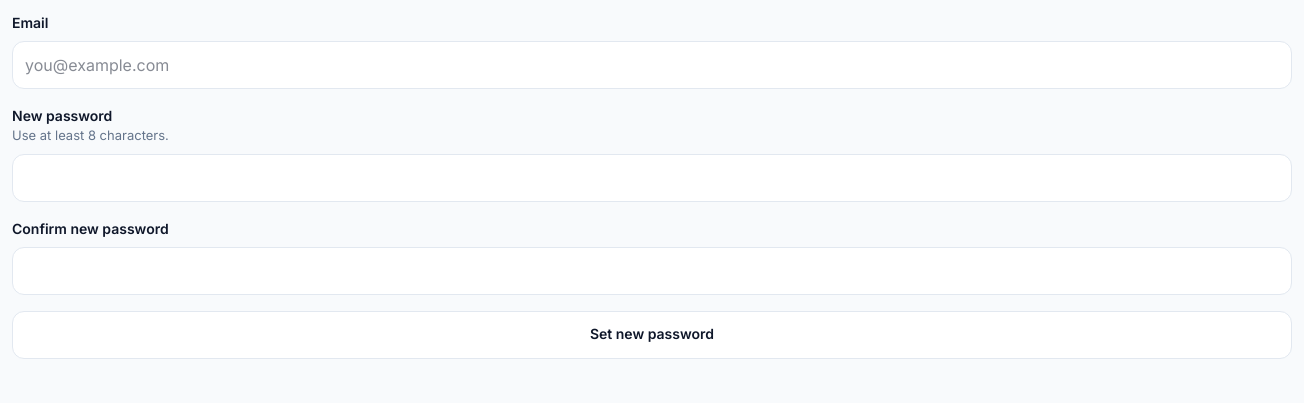
Test case: demo password reset › requires matching new passwords before approving the demo reset
Type "user@example.com" into the field labelled "Email" at (652,65), box left=12, top=41, right=1292, bottom=89
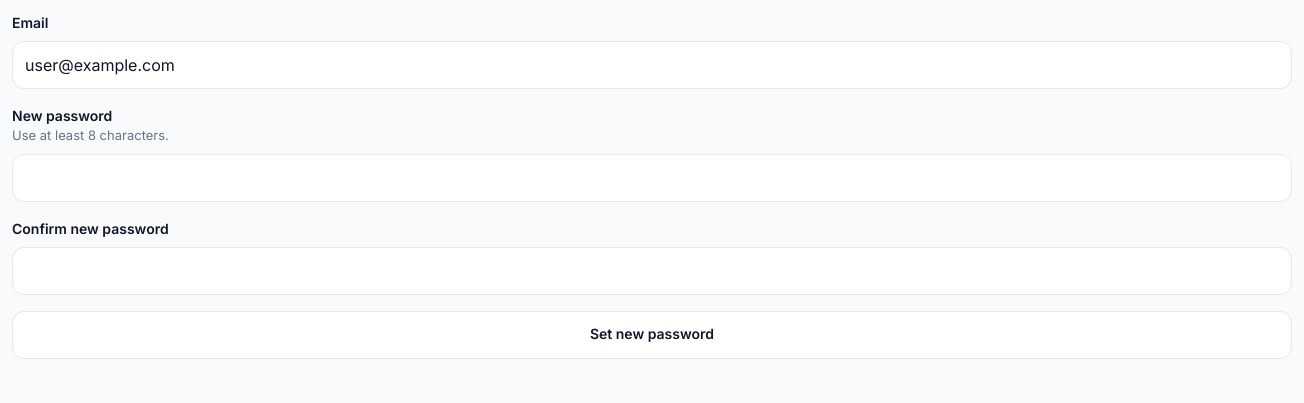
Type "strongpass" into the password field labelled "New password" at (652,178), box left=12, top=154, right=1292, bottom=202
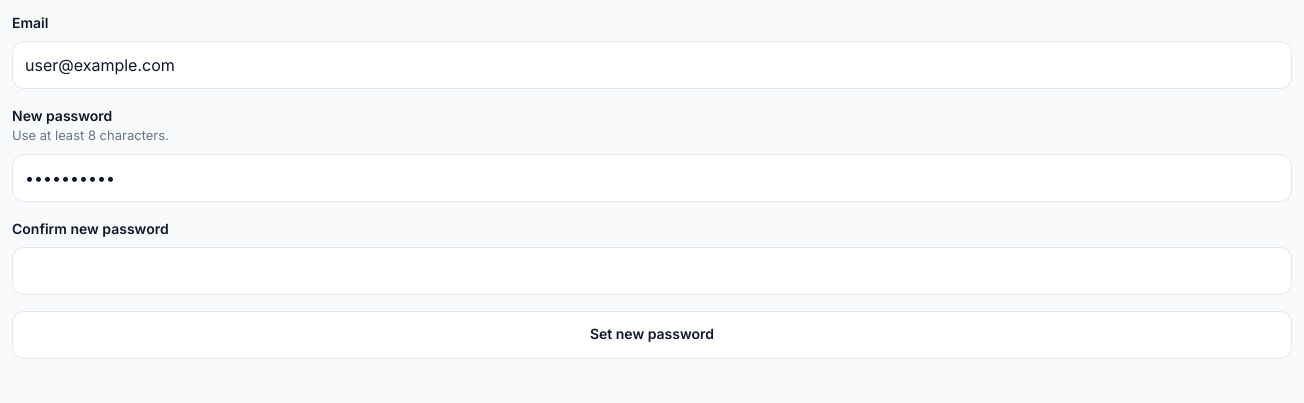
Type "different" into the password field labelled "Confirm new password" at (652,270), box left=12, top=246, right=1292, bottom=294
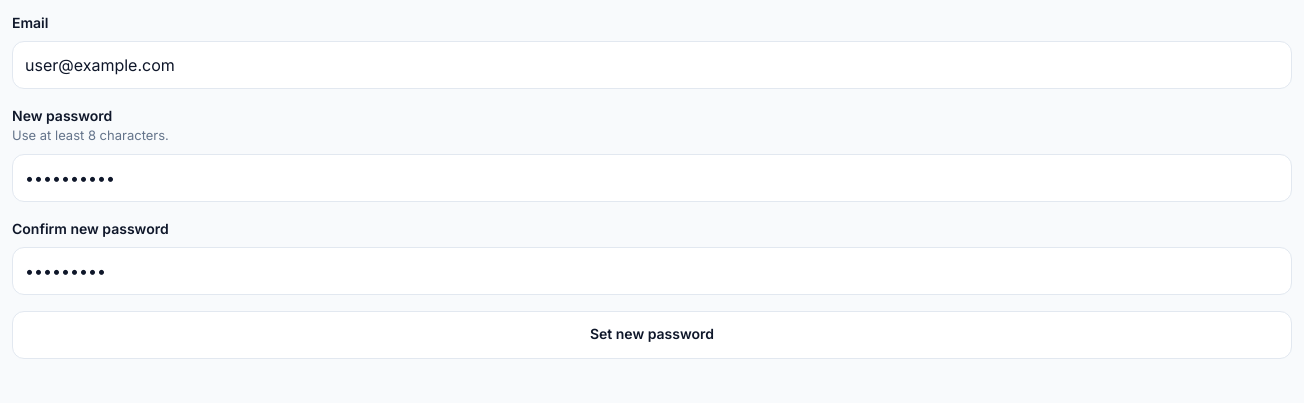
Click the button "Set new password" at (652,334), box left=12, top=310, right=1292, bottom=358
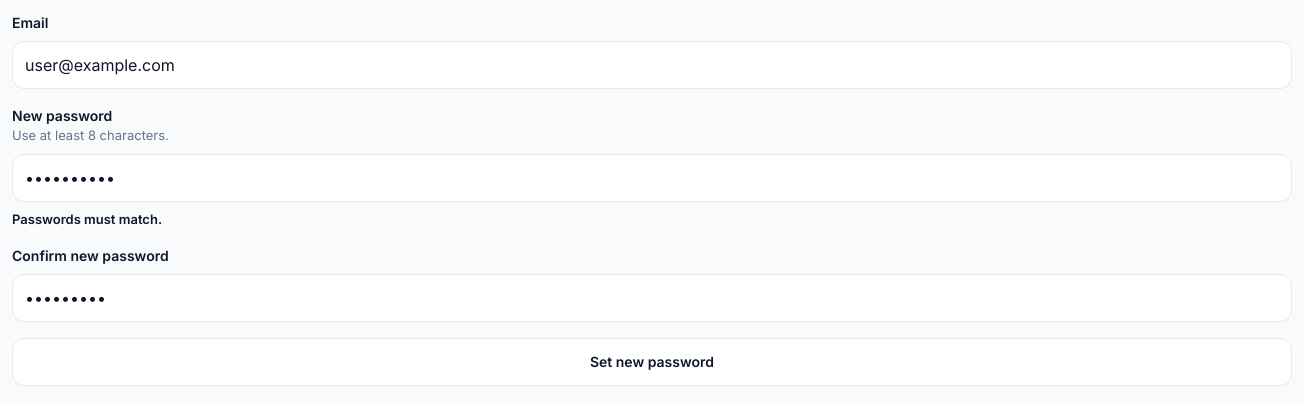
Check: the text "Passwords must match." is shown, box left=12, top=210, right=162, bottom=226
Type "strongpass" into the password field labelled "Confirm new password" at (652,298), box left=12, top=274, right=1292, bottom=322
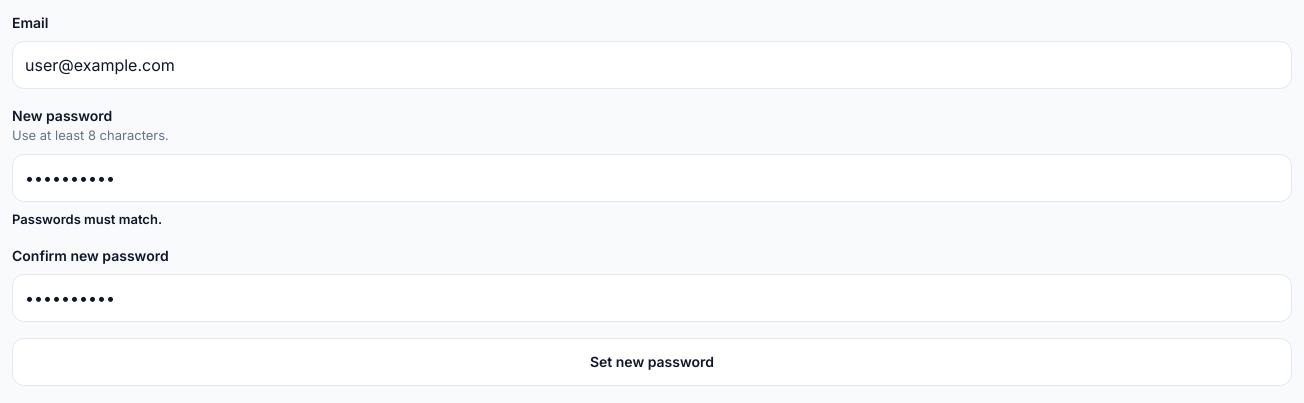
Click the button "Set new password" at (652,362), box left=12, top=338, right=1292, bottom=386
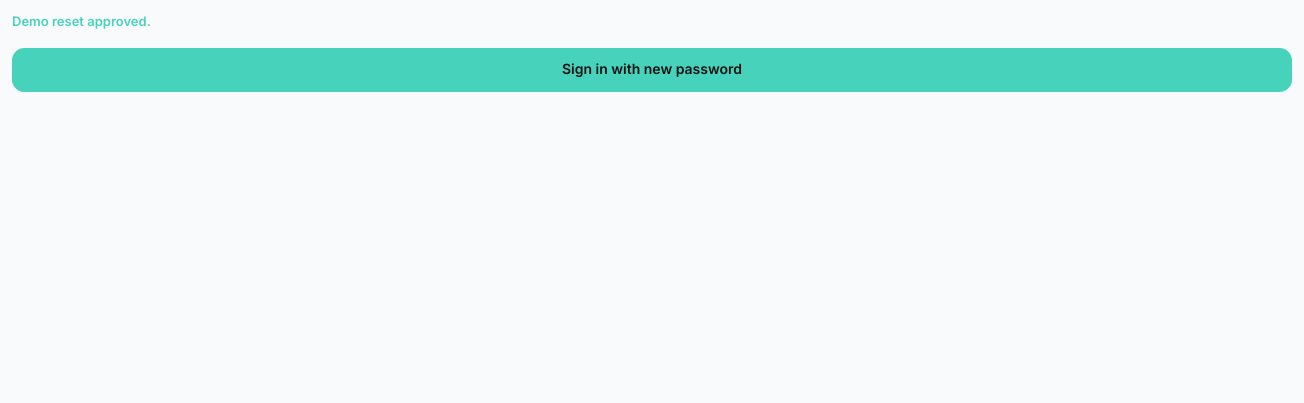
Check: the message reads "Demo reset approved.", box left=12, top=13, right=151, bottom=29
